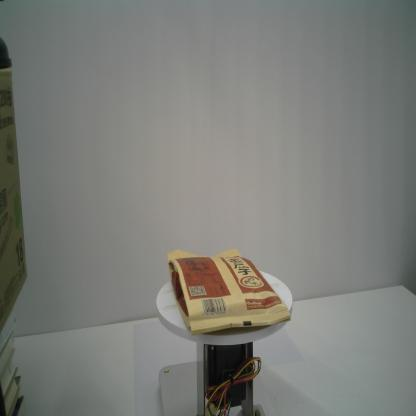Dried Food: (166, 246, 292, 338)
